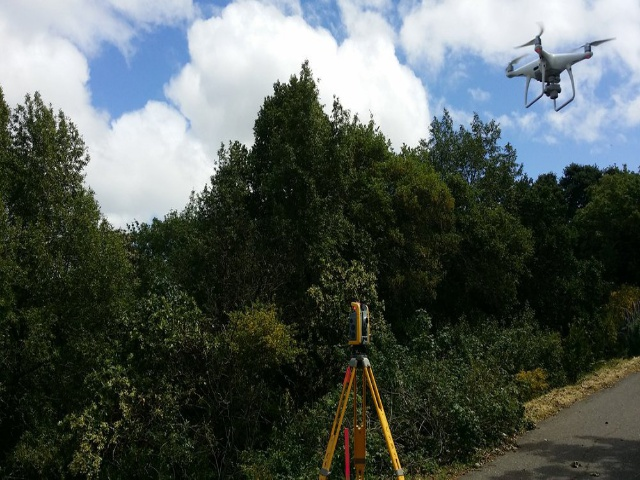drone: (487, 18, 624, 117)
